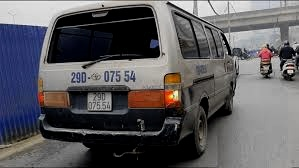Bien-so: (94, 92, 121, 114), (296, 65, 299, 70)
